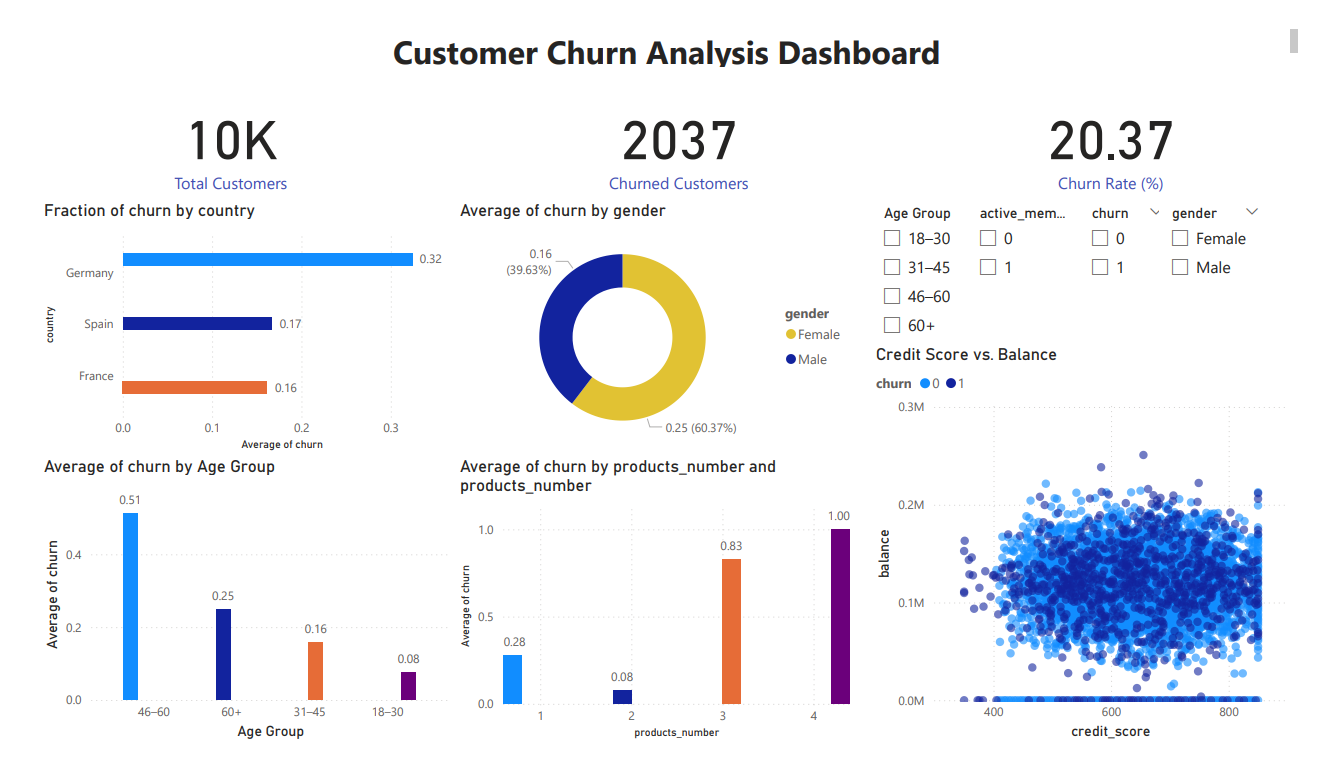

What the dashboard file says about the page in this screenshot:
{"tool":"powerbi","page":{"name":"Page 1","canvas":[1280,720],"ordinal":0},"visuals":[{"type":"textbox","box":[16,0,1264,48],"z":0},{"type":"card","fields":{"Values":["Bank Customer Churn Prediction.Total Customers"]},"box":[16,64,384,112],"z":1000},{"type":"card","fields":{"Values":["Bank Customer Churn Prediction.Churned Customers"]},"box":[464,64,384,112],"z":2000},{"type":"card","fields":{"Values":["Bank Customer Churn Prediction.Churn Rate (%)"]},"box":[896,64,384,112],"z":3000},{"type":"clusteredBarChart","title":"Fraction of churn by country","fields":{"Category":["Bank Customer Churn Prediction.country"],"Y":["Avg(Bank Customer Churn Prediction.churn)"],"Series":["Bank Customer Churn Prediction.country"]},"box":[16,176,416,256],"z":4000},{"type":"clusteredColumnChart","title":"Average of churn by Age Group","fields":{"Category":["Bank Customer Churn Prediction.Age Group"],"Y":["Avg(Bank Customer Churn Prediction.churn)"],"Series":["Bank Customer Churn Prediction.Age Group"]},"box":[16,432,416,288],"z":5000},{"type":"donutChart","fields":{"Category":["Bank Customer Churn Prediction.gender"],"Y":["Avg(Bank Customer Churn Prediction.churn)"]},"box":[432,176,400,256],"z":6000},{"type":"clusteredColumnChart","fields":{"Category":["Bank Customer Churn Prediction.products_number"],"Y":["Avg(Bank Customer Churn Prediction.churn)"],"Series":["Bank Customer Churn Prediction.products_number"]},"box":[432,432,400,288],"z":7000},{"type":"scatterChart","title":"Credit Score vs. Balance","fields":{"Series":["Bank Customer Churn Prediction.churn"],"Y":["Bank Customer Churn Prediction.balance"],"X":["Bank Customer Churn Prediction.credit_score"]},"box":[848,320,432,400],"z":7001},{"type":"slicer","fields":{"Values":["Bank Customer Churn Prediction.Age Group"]},"box":[848,176,128,144],"z":7002},{"type":"slicer","fields":{"Values":["Bank Customer Churn Prediction.active_member"]},"box":[944,176,144,96],"z":7003},{"type":"slicer","fields":{"Values":["Bank Customer Churn Prediction.churn"]},"box":[1056,176,96,144],"z":7004},{"type":"slicer","fields":{"Values":["Bank Customer Churn Prediction.gender"]},"box":[1136,176,112,96],"z":7005}]}

Visuals, with their boxes on the page's 1280x720 design canvas (x1, y1, x2, y2). These are canvas units, not pixel positions in the 1323x768 screenshot, which may show the page scaled, cropped or inside an application window:
textbox: crop(16, 0, 1280, 48)
card - Bank Customer Churn Prediction.Total Customers: crop(16, 64, 400, 176)
card - Bank Customer Churn Prediction.Churned Customers: crop(464, 64, 848, 176)
card - Bank Customer Churn Prediction.Churn Rate (%): crop(896, 64, 1280, 176)
"Fraction of churn by country" clusteredBarChart: crop(16, 176, 432, 432)
"Average of churn by Age Group" clusteredColumnChart: crop(16, 432, 432, 720)
donutChart - Bank Customer Churn Prediction.gender x Avg(Bank Customer Churn Prediction.churn): crop(432, 176, 832, 432)
clusteredColumnChart - Bank Customer Churn Prediction.products_number x Avg(Bank Customer Churn Prediction.churn): crop(432, 432, 832, 720)
"Credit Score vs. Balance" scatterChart: crop(848, 320, 1280, 720)
slicer - Bank Customer Churn Prediction.Age Group: crop(848, 176, 976, 320)
slicer - Bank Customer Churn Prediction.active_member: crop(944, 176, 1088, 272)
slicer - Bank Customer Churn Prediction.churn: crop(1056, 176, 1152, 320)
slicer - Bank Customer Churn Prediction.gender: crop(1136, 176, 1248, 272)
